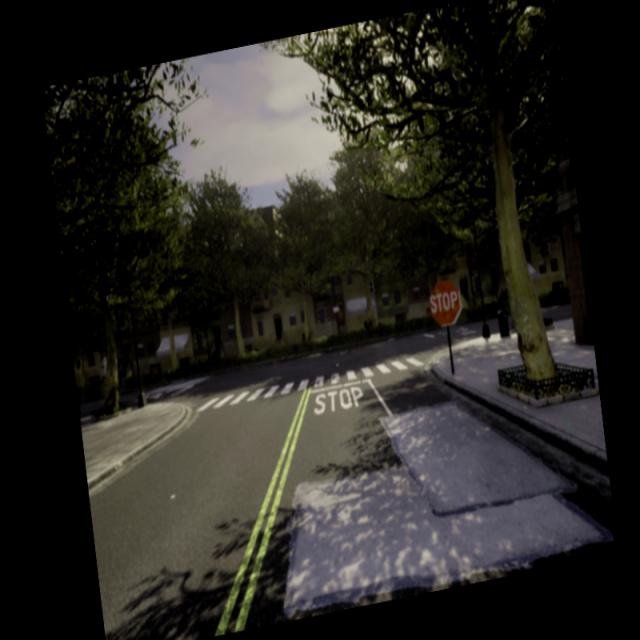stop sign: (426, 276, 464, 328), (429, 289, 459, 315)
